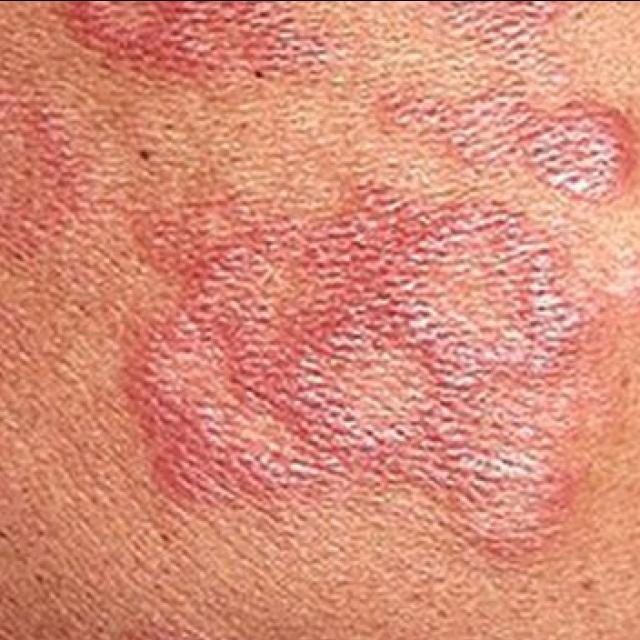Leprosy: (113, 196, 582, 548), (0, 1, 332, 212), (356, 0, 640, 209)
